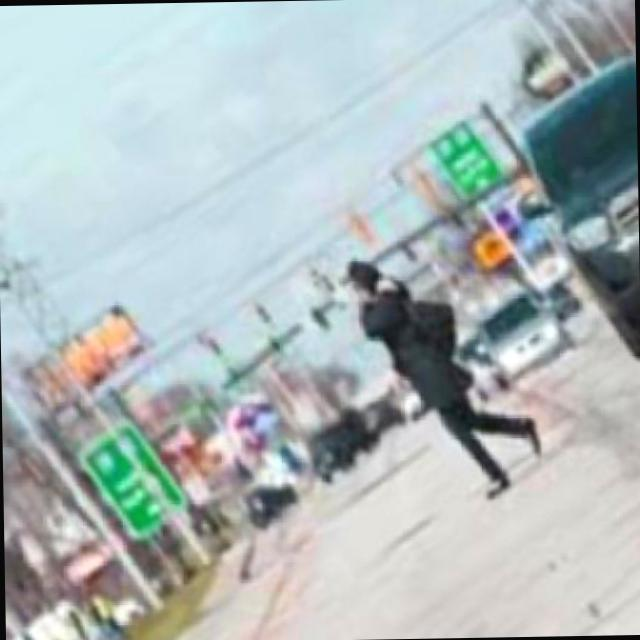Person: (345, 248, 543, 502)
